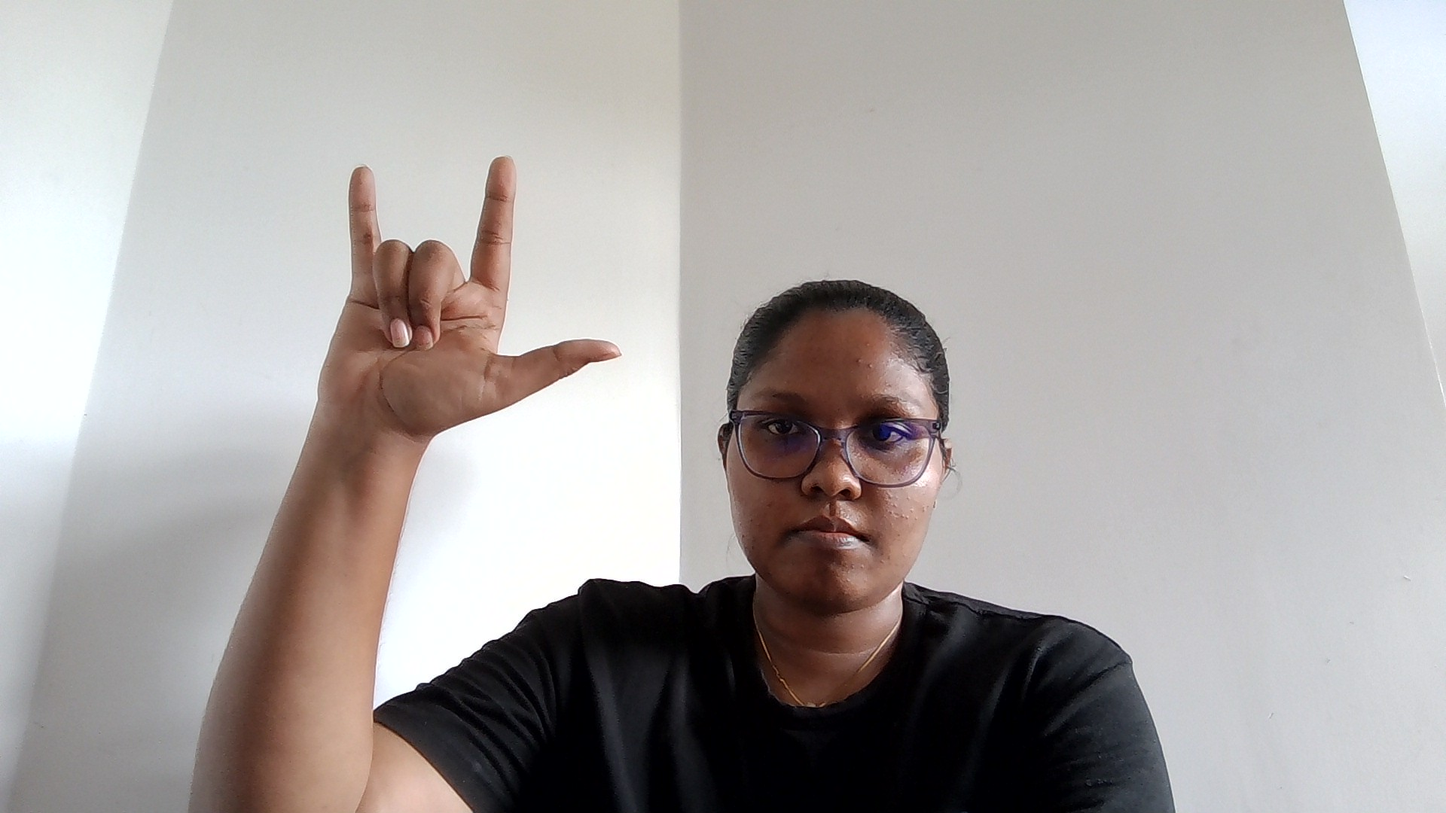I Love You: (175, 76, 635, 610)
